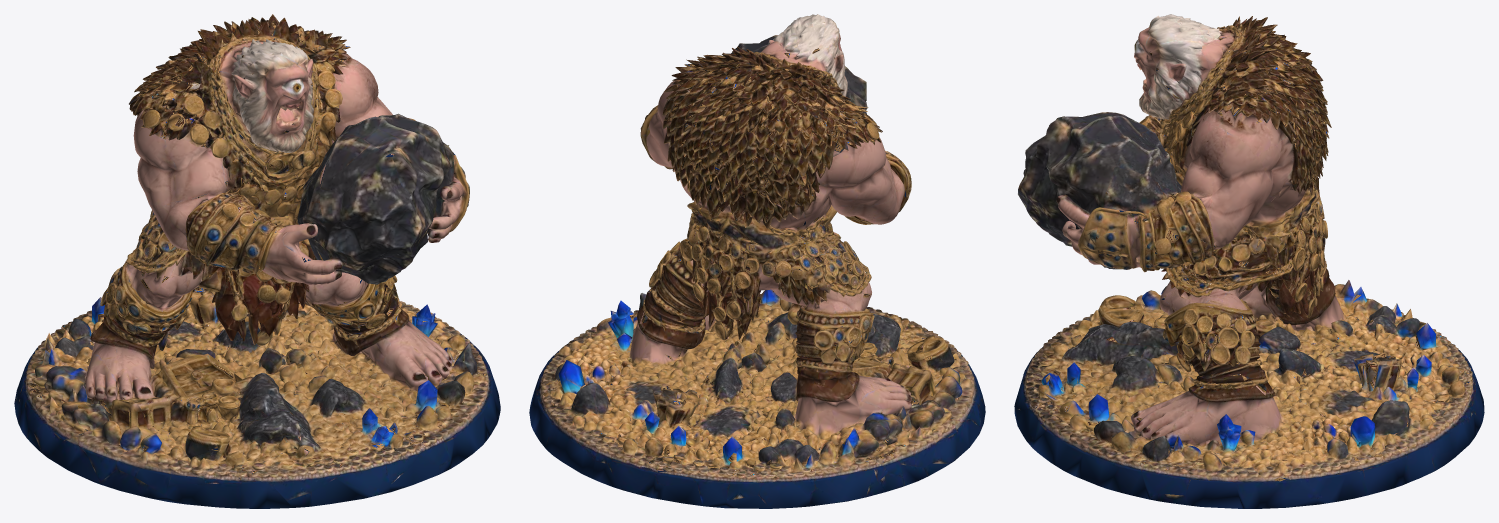
File: cyclops.glb
The picture shows the model from 3 angles, left to right: view 1: azimuth 30°, elevation 25°; view 2: azimuth 150°, elevation 25°; view 3: azimuth 270°, elevation 25°; orthographic projection. The views are drawn at different scales.
Size of the model in its own units: 1.9 by 1.71 by 1.9.
Materials: 1 (1 with a texture image).
